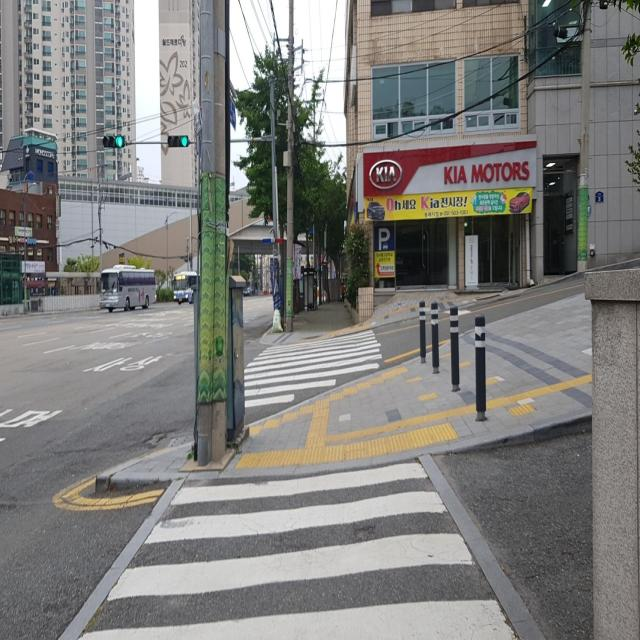횡단보도: (77, 458, 519, 640), (240, 323, 376, 408)
